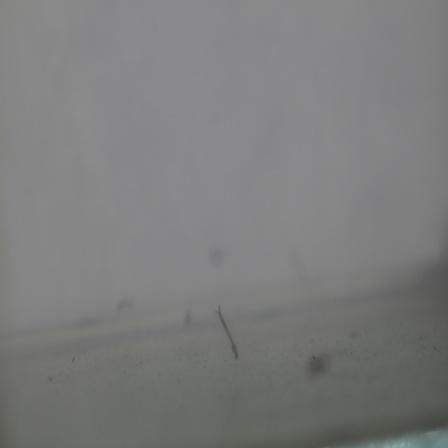Jentik-Nyamuk: (212, 302, 244, 365)
